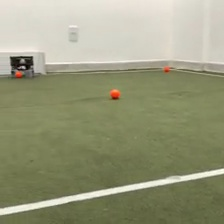ball: (108, 87, 121, 100), (14, 69, 23, 78), (162, 64, 171, 72)
goal: (1, 50, 47, 77)
robot: (7, 54, 36, 80)
